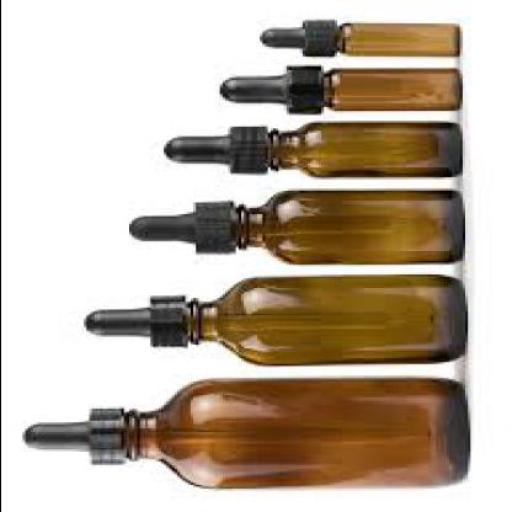glass: (123, 375, 467, 485), (183, 274, 464, 364), (229, 189, 461, 263), (266, 121, 458, 177), (314, 66, 458, 109), (333, 22, 456, 54)
plastic: (19, 407, 125, 463), (126, 201, 232, 253), (80, 292, 181, 346), (163, 122, 267, 172), (216, 64, 317, 111), (256, 18, 330, 55)
